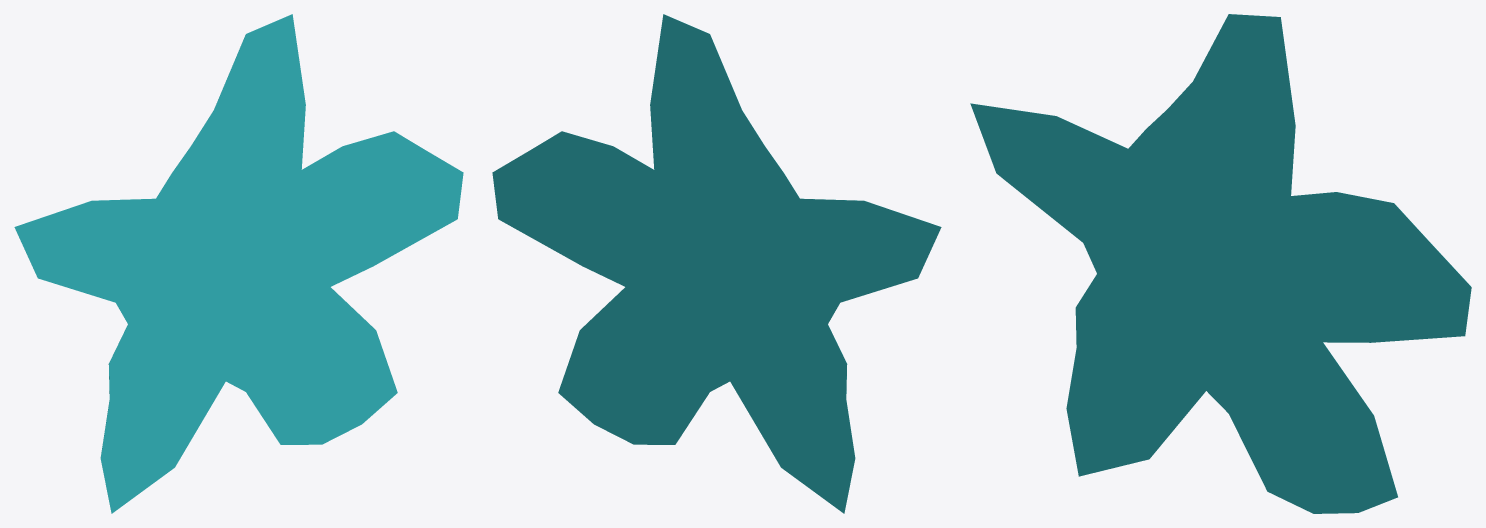
The model's file is splat_cyan.glb.
3 views of the same model, side by side, from view 1: azimuth 30°, elevation 25°; view 2: azimuth 150°, elevation 25°; view 3: azimuth 330°, elevation 25° (orthographic). The views are drawn at different scales.
Parts seen in each view (by area): view 1: SM_PaintSplash; view 2: SM_PaintSplash; view 3: SM_PaintSplash.
Boxes of the visible parts, x1,y1,x2,y2 form: SM_PaintSplash: (14, 14, 463, 513); SM_PaintSplash: (492, 14, 941, 513); SM_PaintSplash: (970, 14, 1471, 513).
Bounding box in the file's own units: 1.71 × 1.66 × 0.0005.
